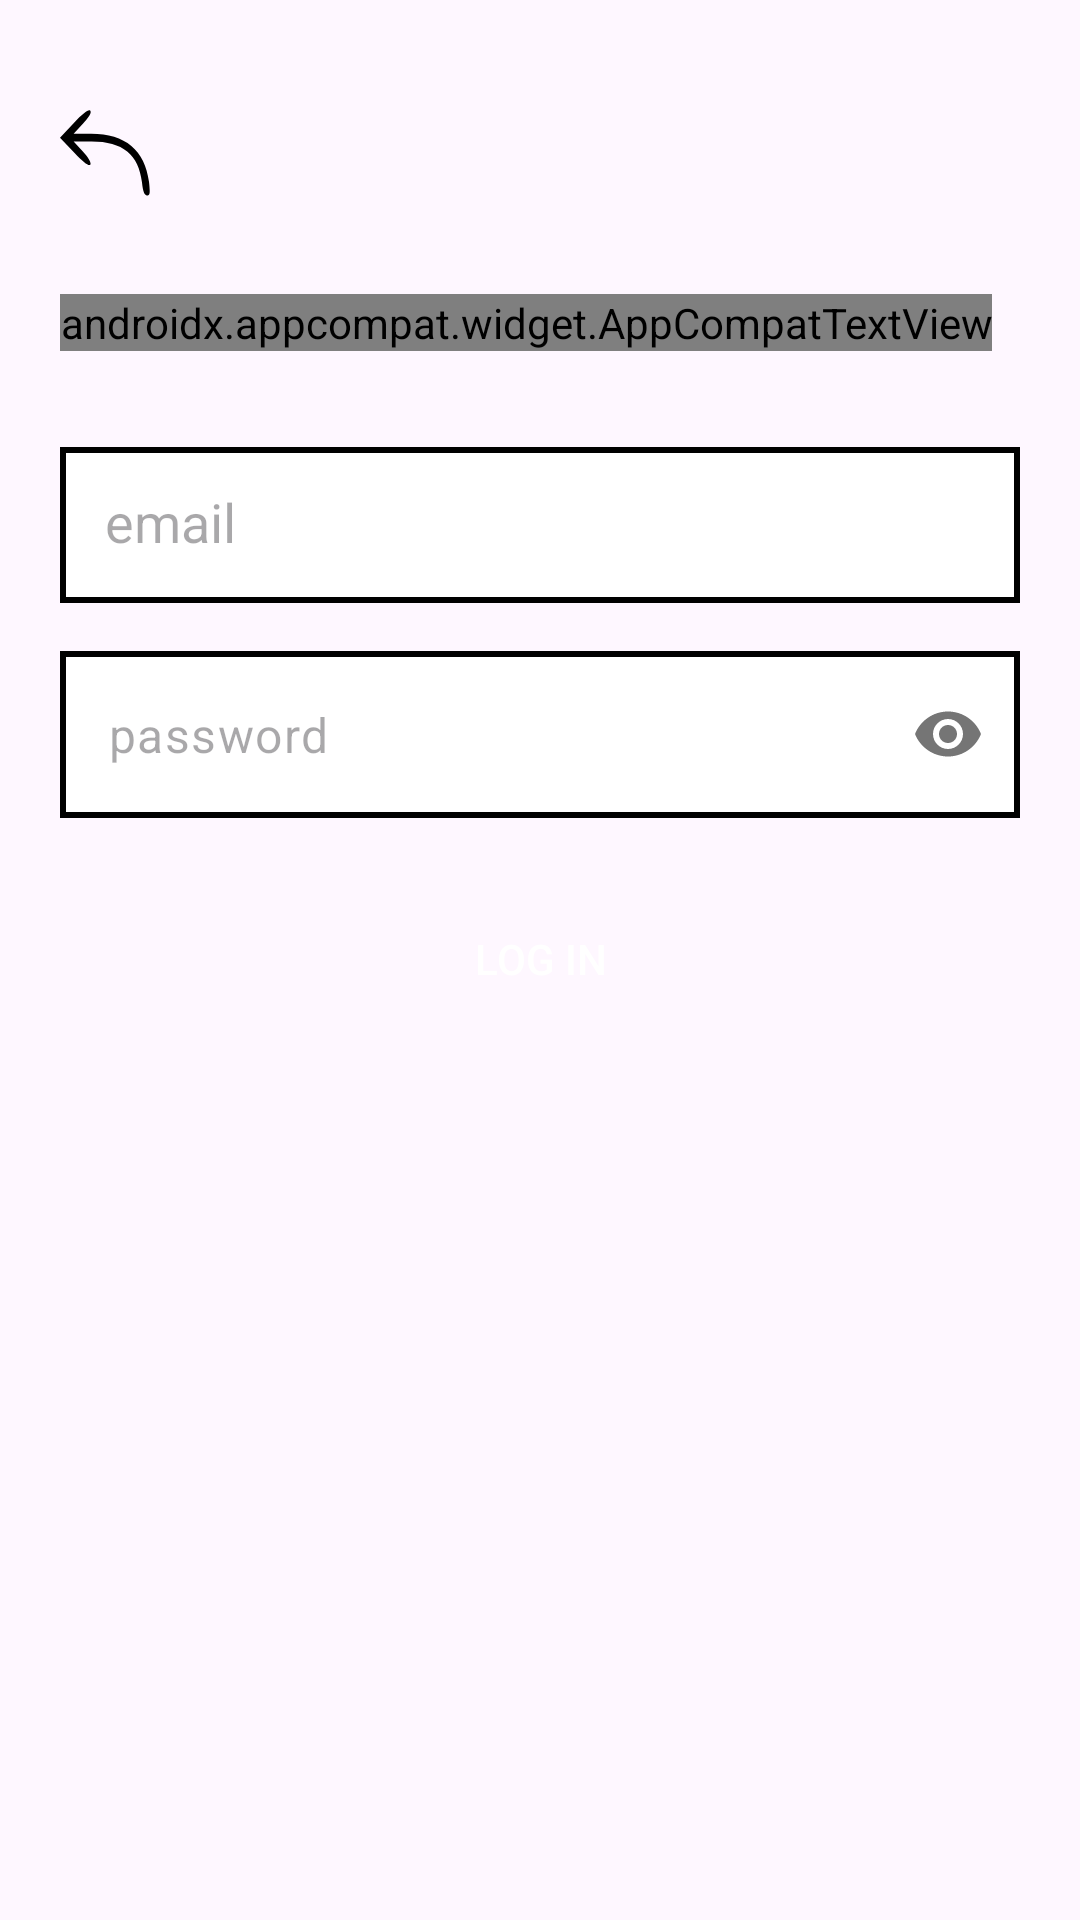

Icon bounding boxes for this 1080w x 1920h phone screenshot, format (x1, y1, x2, y2):
back arrow: (60, 110, 150, 196)
